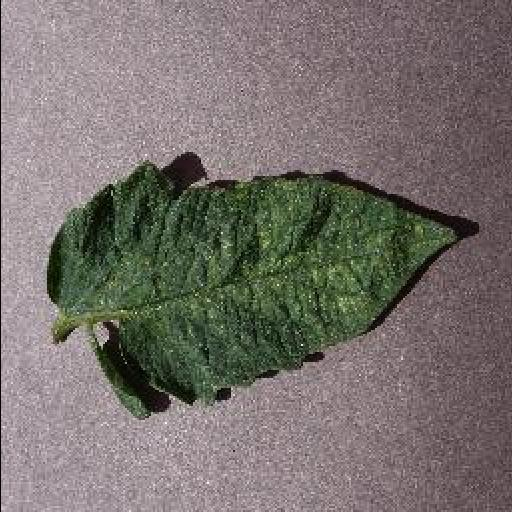disease_tomato: (44, 166, 460, 418)
